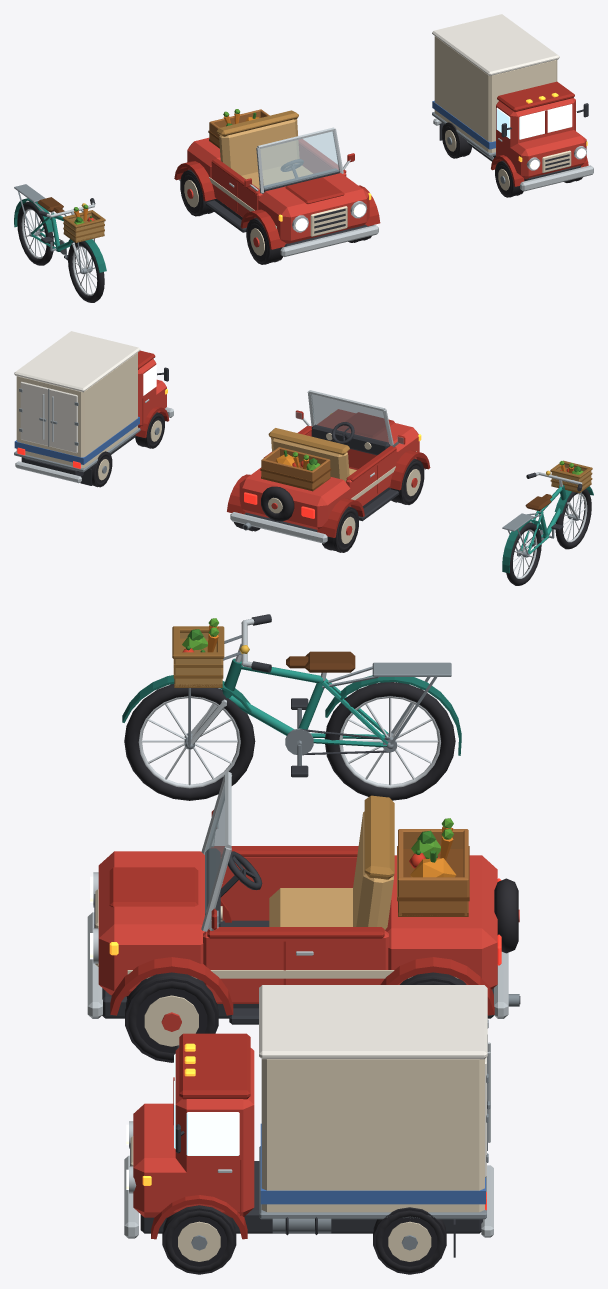
File: vehicles.glb
The picture shows the model from 3 angles, top to bottom: view 1: azimuth 30°, elevation 25°; view 2: azimuth 150°, elevation 25°; view 3: azimuth 270°, elevation 25°; orthographic projection. The views are drawn at different scales.
Parts seen in each view (by area): view 1: Truck_Body, Car_Body, Bike_Body, Bike_Wheel_F, Bike_Wheel_R, Car_Wheel_FL, Car_Wheel_RL; view 2: Truck_Body, Car_Body, Bike_Body, Bike_Wheel_F, Bike_Wheel_R, Car_Wheel_RL, Car_Wheel_FL; view 3: Truck_Body, Car_Body, Bike_Body, Bike_Wheel_R, Bike_Wheel_F, Car_Wheel_FR.
Boxes of the visible parts, x1,y1,x2,y2 form: Truck_Body: [432, 14, 593, 197]; Car_Body: [174, 109, 380, 256]; Bike_Body: [14, 184, 106, 273]; Bike_Wheel_F: [68, 241, 104, 302]; Bike_Wheel_R: [17, 201, 53, 265]; Car_Wheel_FL: [246, 217, 282, 264]; Car_Wheel_RL: [180, 169, 213, 216]; Truck_Body: [14, 331, 173, 487]; Car_Body: [227, 390, 430, 543]; Bike_Body: [502, 460, 593, 573]; Bike_Wheel_F: [555, 489, 591, 549]; Bike_Wheel_R: [506, 522, 541, 585]; Car_Wheel_RL: [322, 506, 358, 552]; Car_Wheel_FL: [391, 458, 424, 504]; Truck_Body: [124, 985, 493, 1274]; Car_Body: [87, 771, 520, 1024]; Bike_Body: [122, 614, 461, 755]; Bike_Wheel_R: [325, 682, 455, 800]; Bike_Wheel_F: [124, 684, 255, 800]; Car_Wheel_FR: [125, 972, 218, 1062].
Size of the model in its own units: 6.24 by 1.28 by 2.25.
